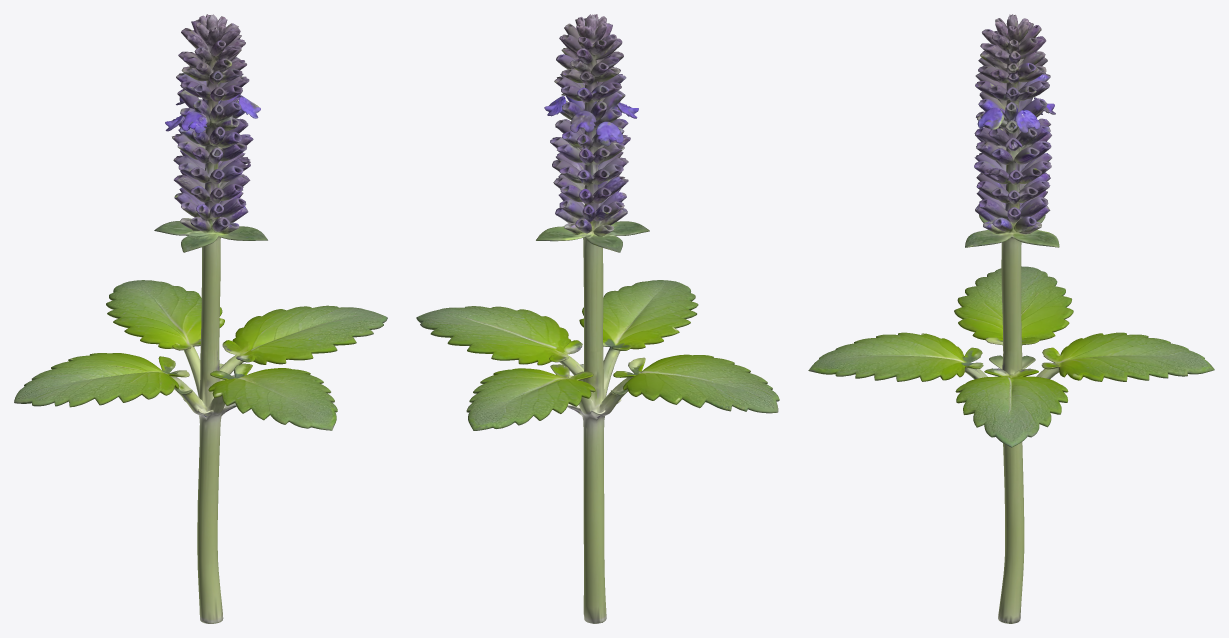
The model's file is huoxiang.glb.
The picture shows the model from 3 angles, left to right: view 1: azimuth 30°, elevation 25°; view 2: azimuth 150°, elevation 25°; view 3: azimuth 270°, elevation 25°; orthographic projection.
Parts seen in each view (by area): view 1: node_0; view 2: node_0; view 3: node_0.
Part boxes in pixels (x1,y1,x2,y2): node_0: (14,14,387,623); node_0: (416,14,779,623); node_0: (808,14,1214,623).
Size of the model in its own units: 0.7621 by 1.2 by 0.7278.
1 material, 1 textured.
